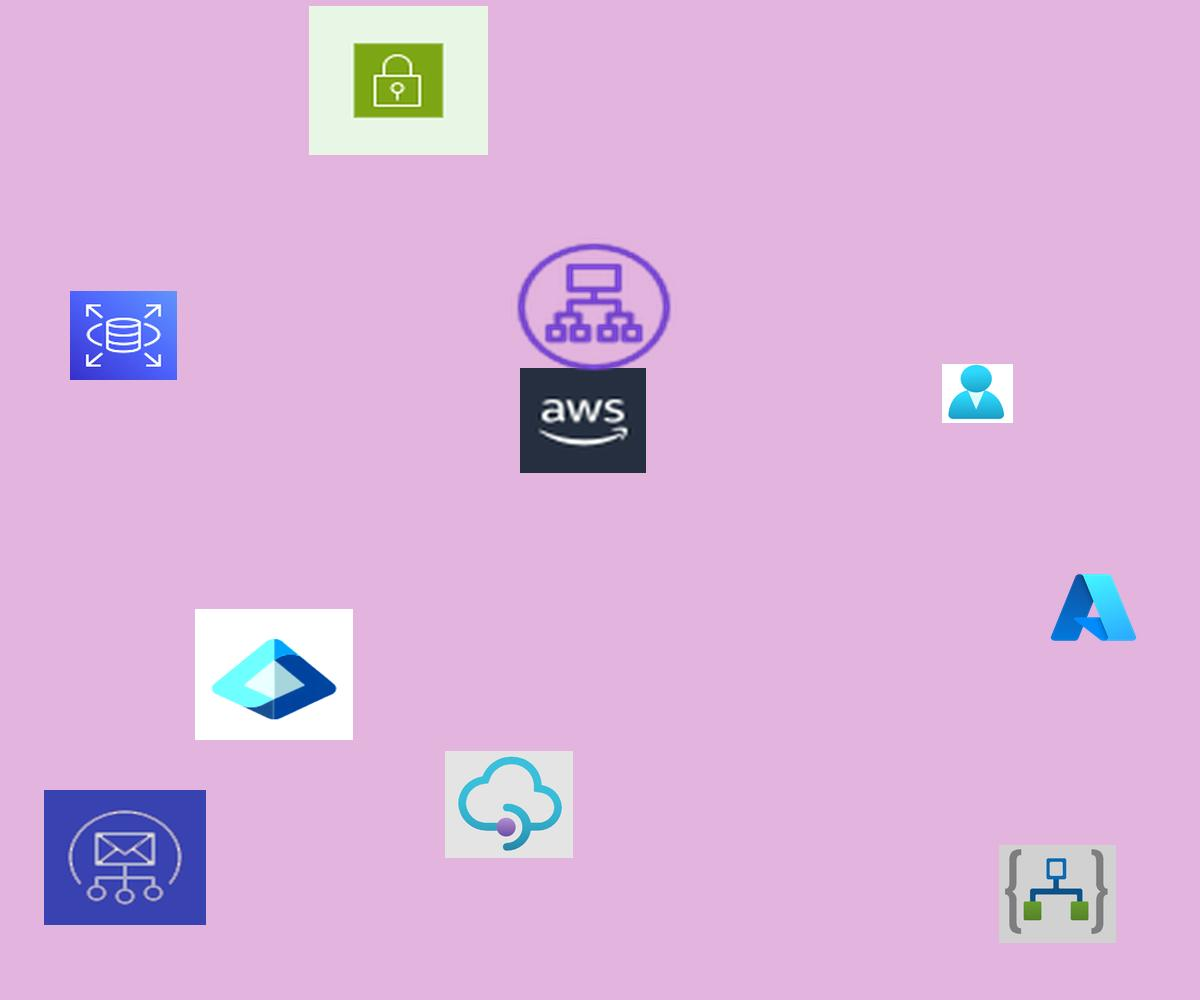AWS-Cloud-logo: (520, 368, 646, 473)
AWS-Public-subnet: (309, 6, 488, 155)
AWS-RDS: (70, 291, 177, 380)
AWS-Res_Elastic-Load-Balancing_Application-Load-Balancer: (511, 238, 677, 376)
AWS-Simple-Email-Service: (44, 790, 206, 925)
Azure_api_gateway: (445, 751, 573, 858)
Azure_integration-204-Logic-Apps: (999, 845, 1116, 943)
Azure_microsoft_entra: (195, 609, 353, 740)
Azure_services: (1047, 569, 1140, 646)
Azure_users: (942, 364, 1013, 423)
